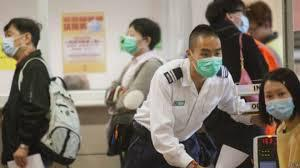OK: (266, 86, 294, 119), (195, 48, 223, 76), (3, 32, 29, 58), (124, 29, 149, 56), (230, 10, 251, 35)
